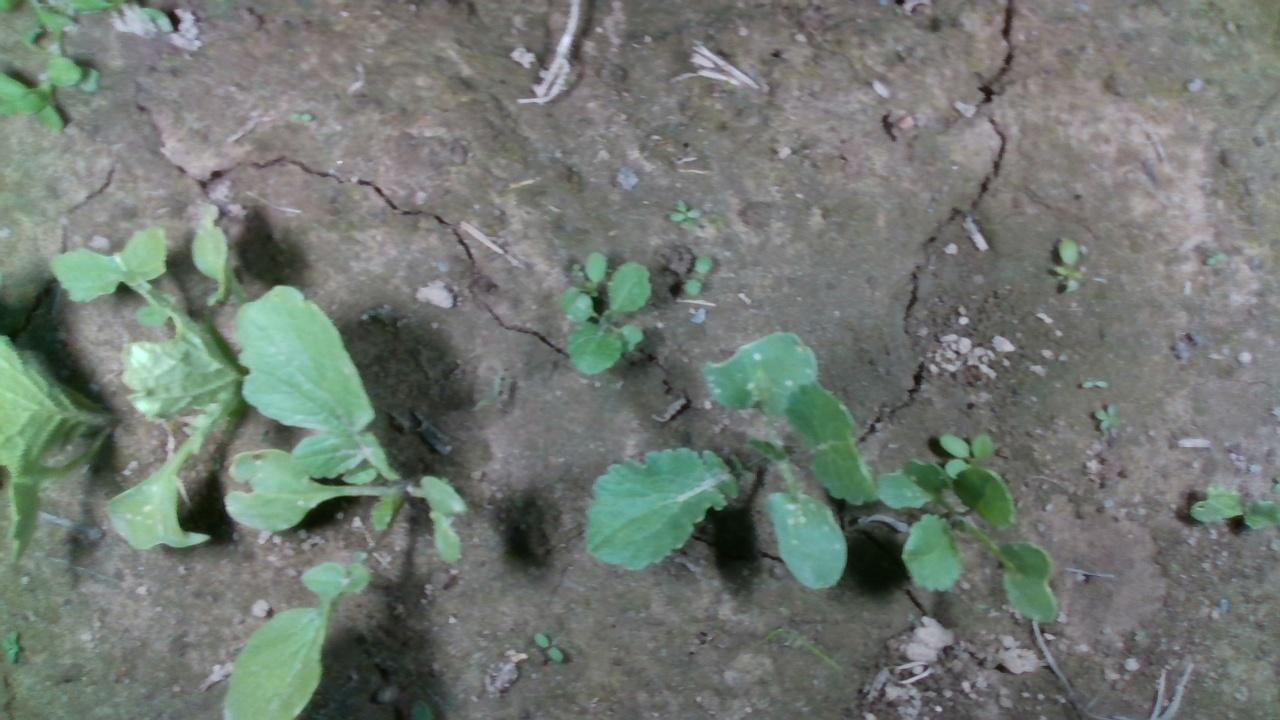weed: (1047, 232, 1086, 295), (682, 251, 713, 295), (666, 196, 702, 229), (529, 631, 564, 662), (1090, 401, 1122, 430), (1, 627, 21, 665), (1076, 376, 1108, 389)
